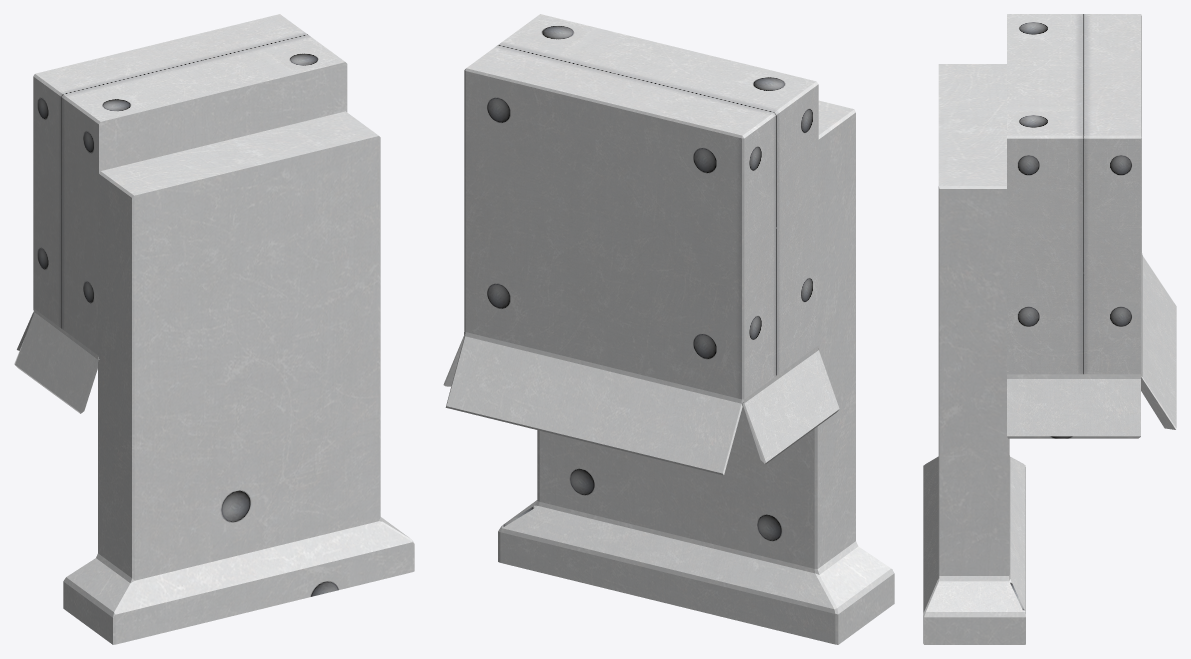
File: Card Shooter.fbx
The picture shows the model from 3 angles, left to right: view 1: azimuth 30°, elevation 25°; view 2: azimuth 150°, elevation 25°; view 3: azimuth 270°, elevation 25°; orthographic projection. The views are drawn at different scales.
Parts seen in each view (by area): view 1: Card Shooter Base, Card Shooter; view 2: Card Shooter, Card Shooter Base; view 3: Card Shooter, Card Shooter Base.
Part boxes in pixels (x1,y1,x2,y2): Card Shooter Base: (63,111,414,644); Card Shooter: (14,14,347,413); Card Shooter: (443,14,839,475); Card Shooter Base: (498,100,894,644); Card Shooter: (1007,14,1176,438); Card Shooter Base: (923,64,1025,644).
Bounding box in the file's own units: 387 × 597 × 276.
